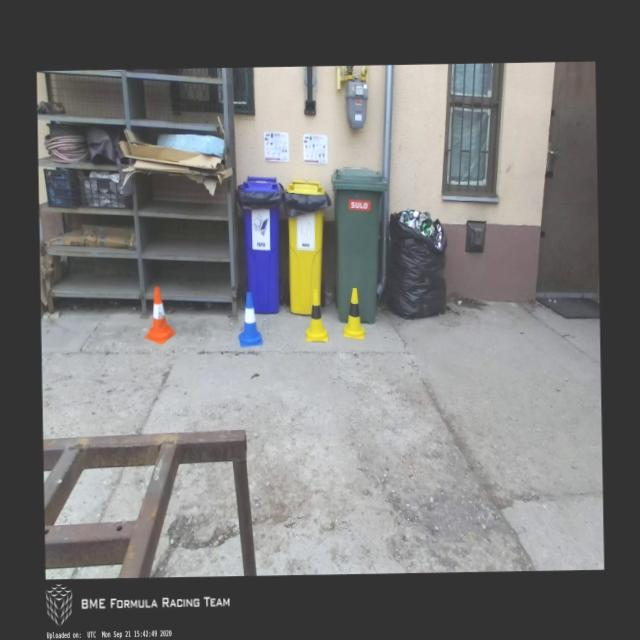blue_cone: (237, 292, 262, 346)
orange_cone: (144, 287, 175, 342)
yellow_cone: (305, 288, 328, 343), (342, 288, 365, 338)
